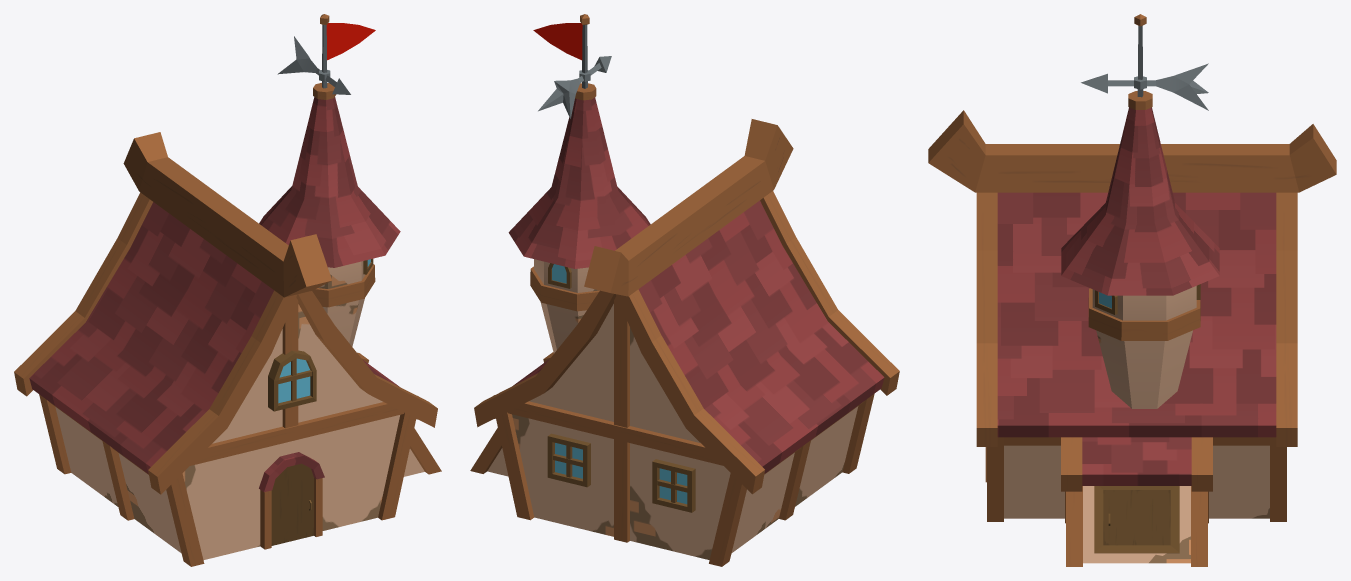
Rendered from House 01.fbx.
The picture shows the model from 3 angles, left to right: view 1: azimuth 30°, elevation 25°; view 2: azimuth 150°, elevation 25°; view 3: azimuth 270°, elevation 25°; orthographic projection. The views are drawn at different scales.
Visible parts, largest first — view 1: House_01, Door, Flag, Windvane; view 2: House_01, Windvane, Flag; view 3: House_01, Windvane.
Part boxes in pixels (left/top/right/bottom): House_01: left=14, top=14, right=441, bottom=566; Door: left=271, top=463, right=313, bottom=545; Flag: left=326, top=23, right=375, bottom=60; Windvane: left=277, top=36, right=350, bottom=94; House_01: left=470, top=14, right=899, bottom=566; Windvane: left=538, top=56, right=611, bottom=118; Flag: left=533, top=23, right=582, bottom=60; House_01: left=928, top=14, right=1336, bottom=566; Windvane: left=1081, top=63, right=1208, bottom=110.
Size of the model in its own units: 984 by 1315 by 960.
